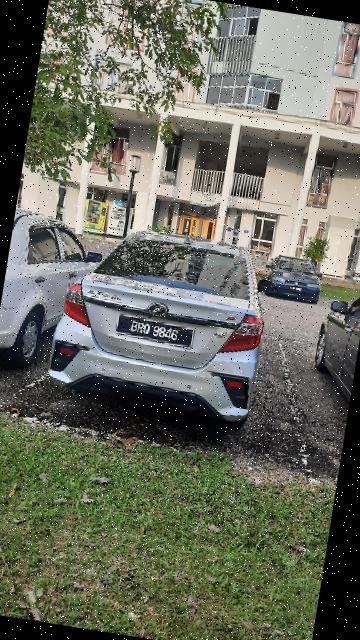License_Plate: (114, 313, 198, 350)
car: (41, 220, 280, 434), (1, 205, 110, 378), (302, 279, 360, 411), (259, 245, 331, 310)
